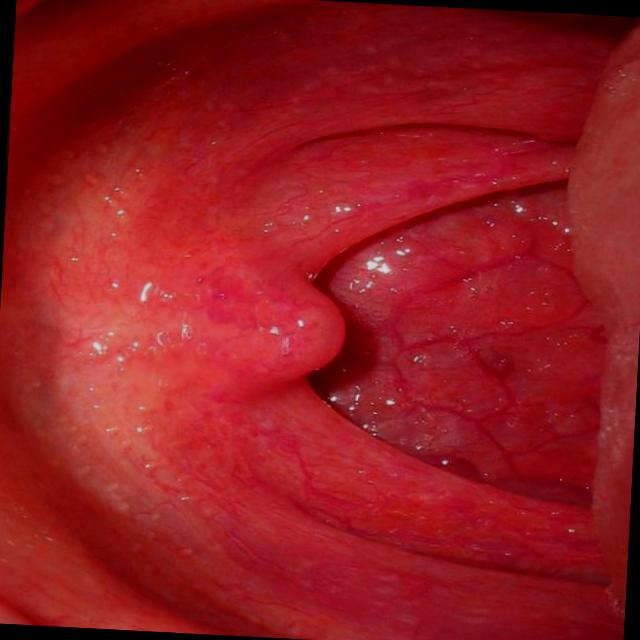Non Pharyngitis: (326, 1, 604, 241), (274, 454, 587, 640), (125, 256, 401, 432)
